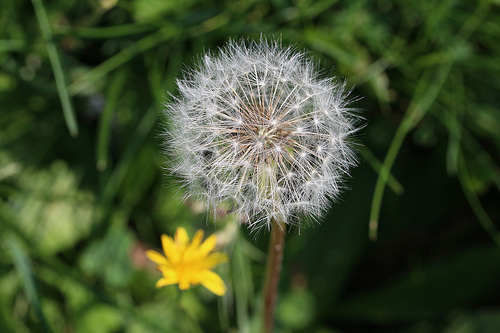dandelion white: (157, 32, 366, 235)
